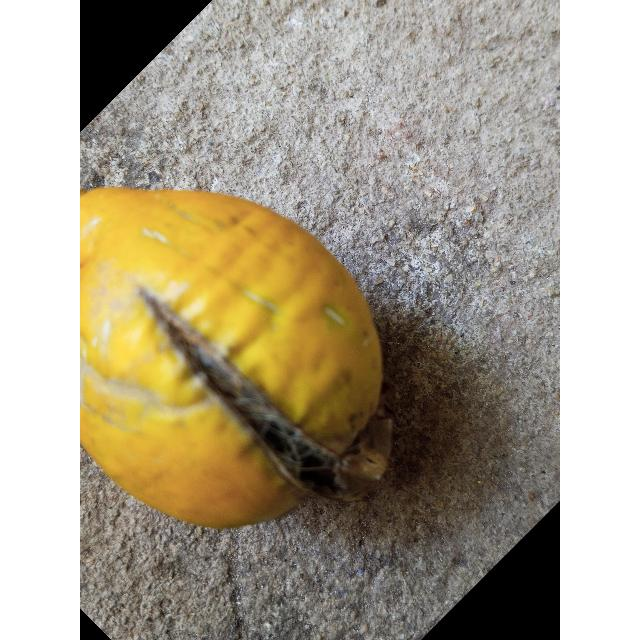damaged: (80, 188, 391, 532)
